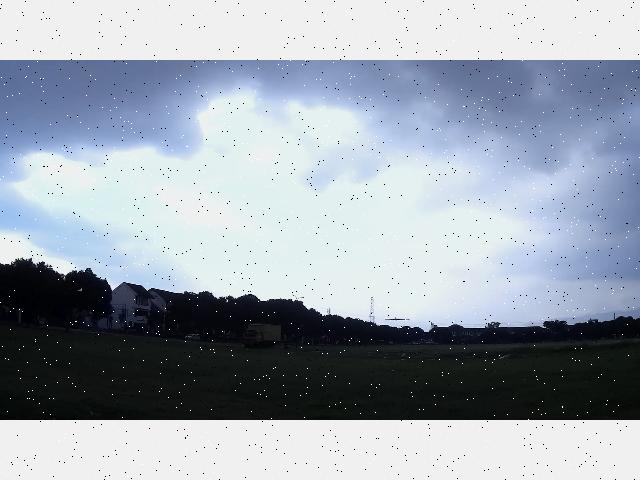Anti-Drone: (384, 318, 410, 320)
